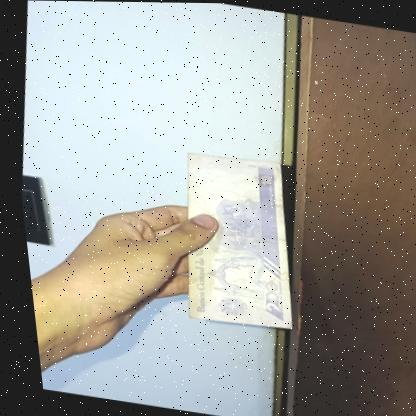vef_back: (158, 149, 309, 335)
